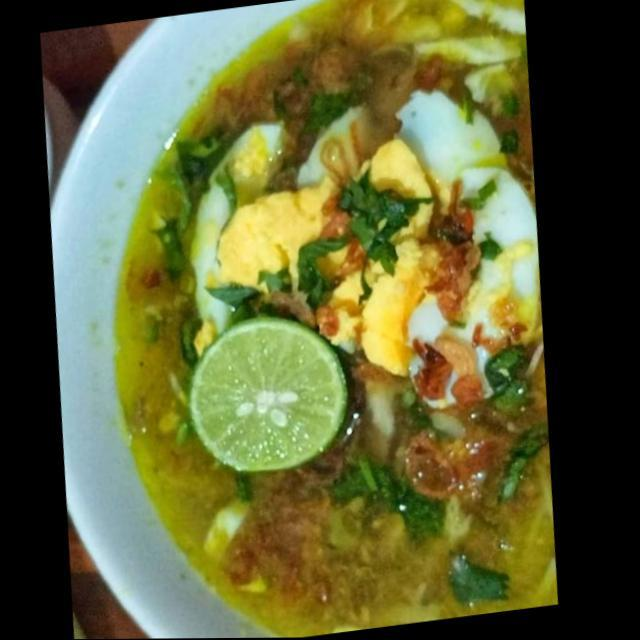Soto: (112, 0, 552, 636)
